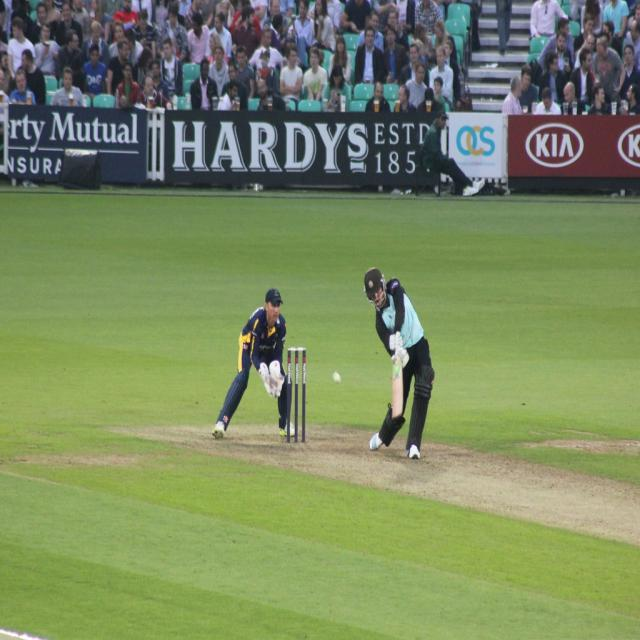stumps: (286, 342, 308, 444)
